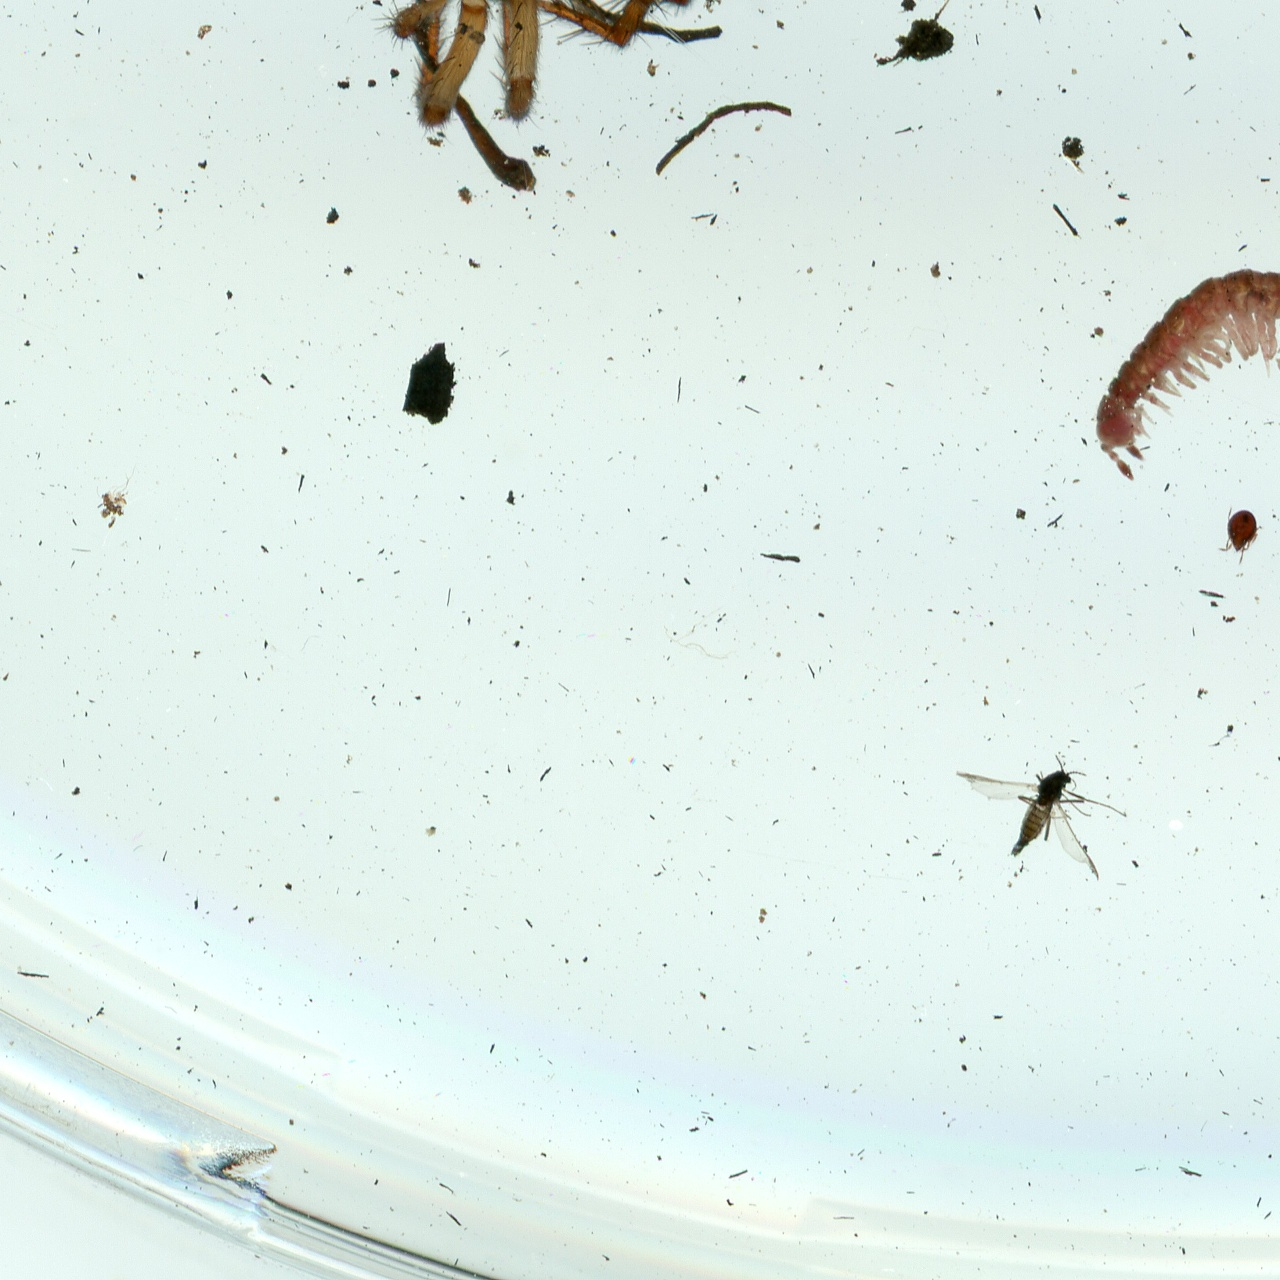arthropod: (232, 0, 743, 147), (1089, 265, 1280, 561), (949, 749, 1131, 886), (1213, 505, 1262, 567)
